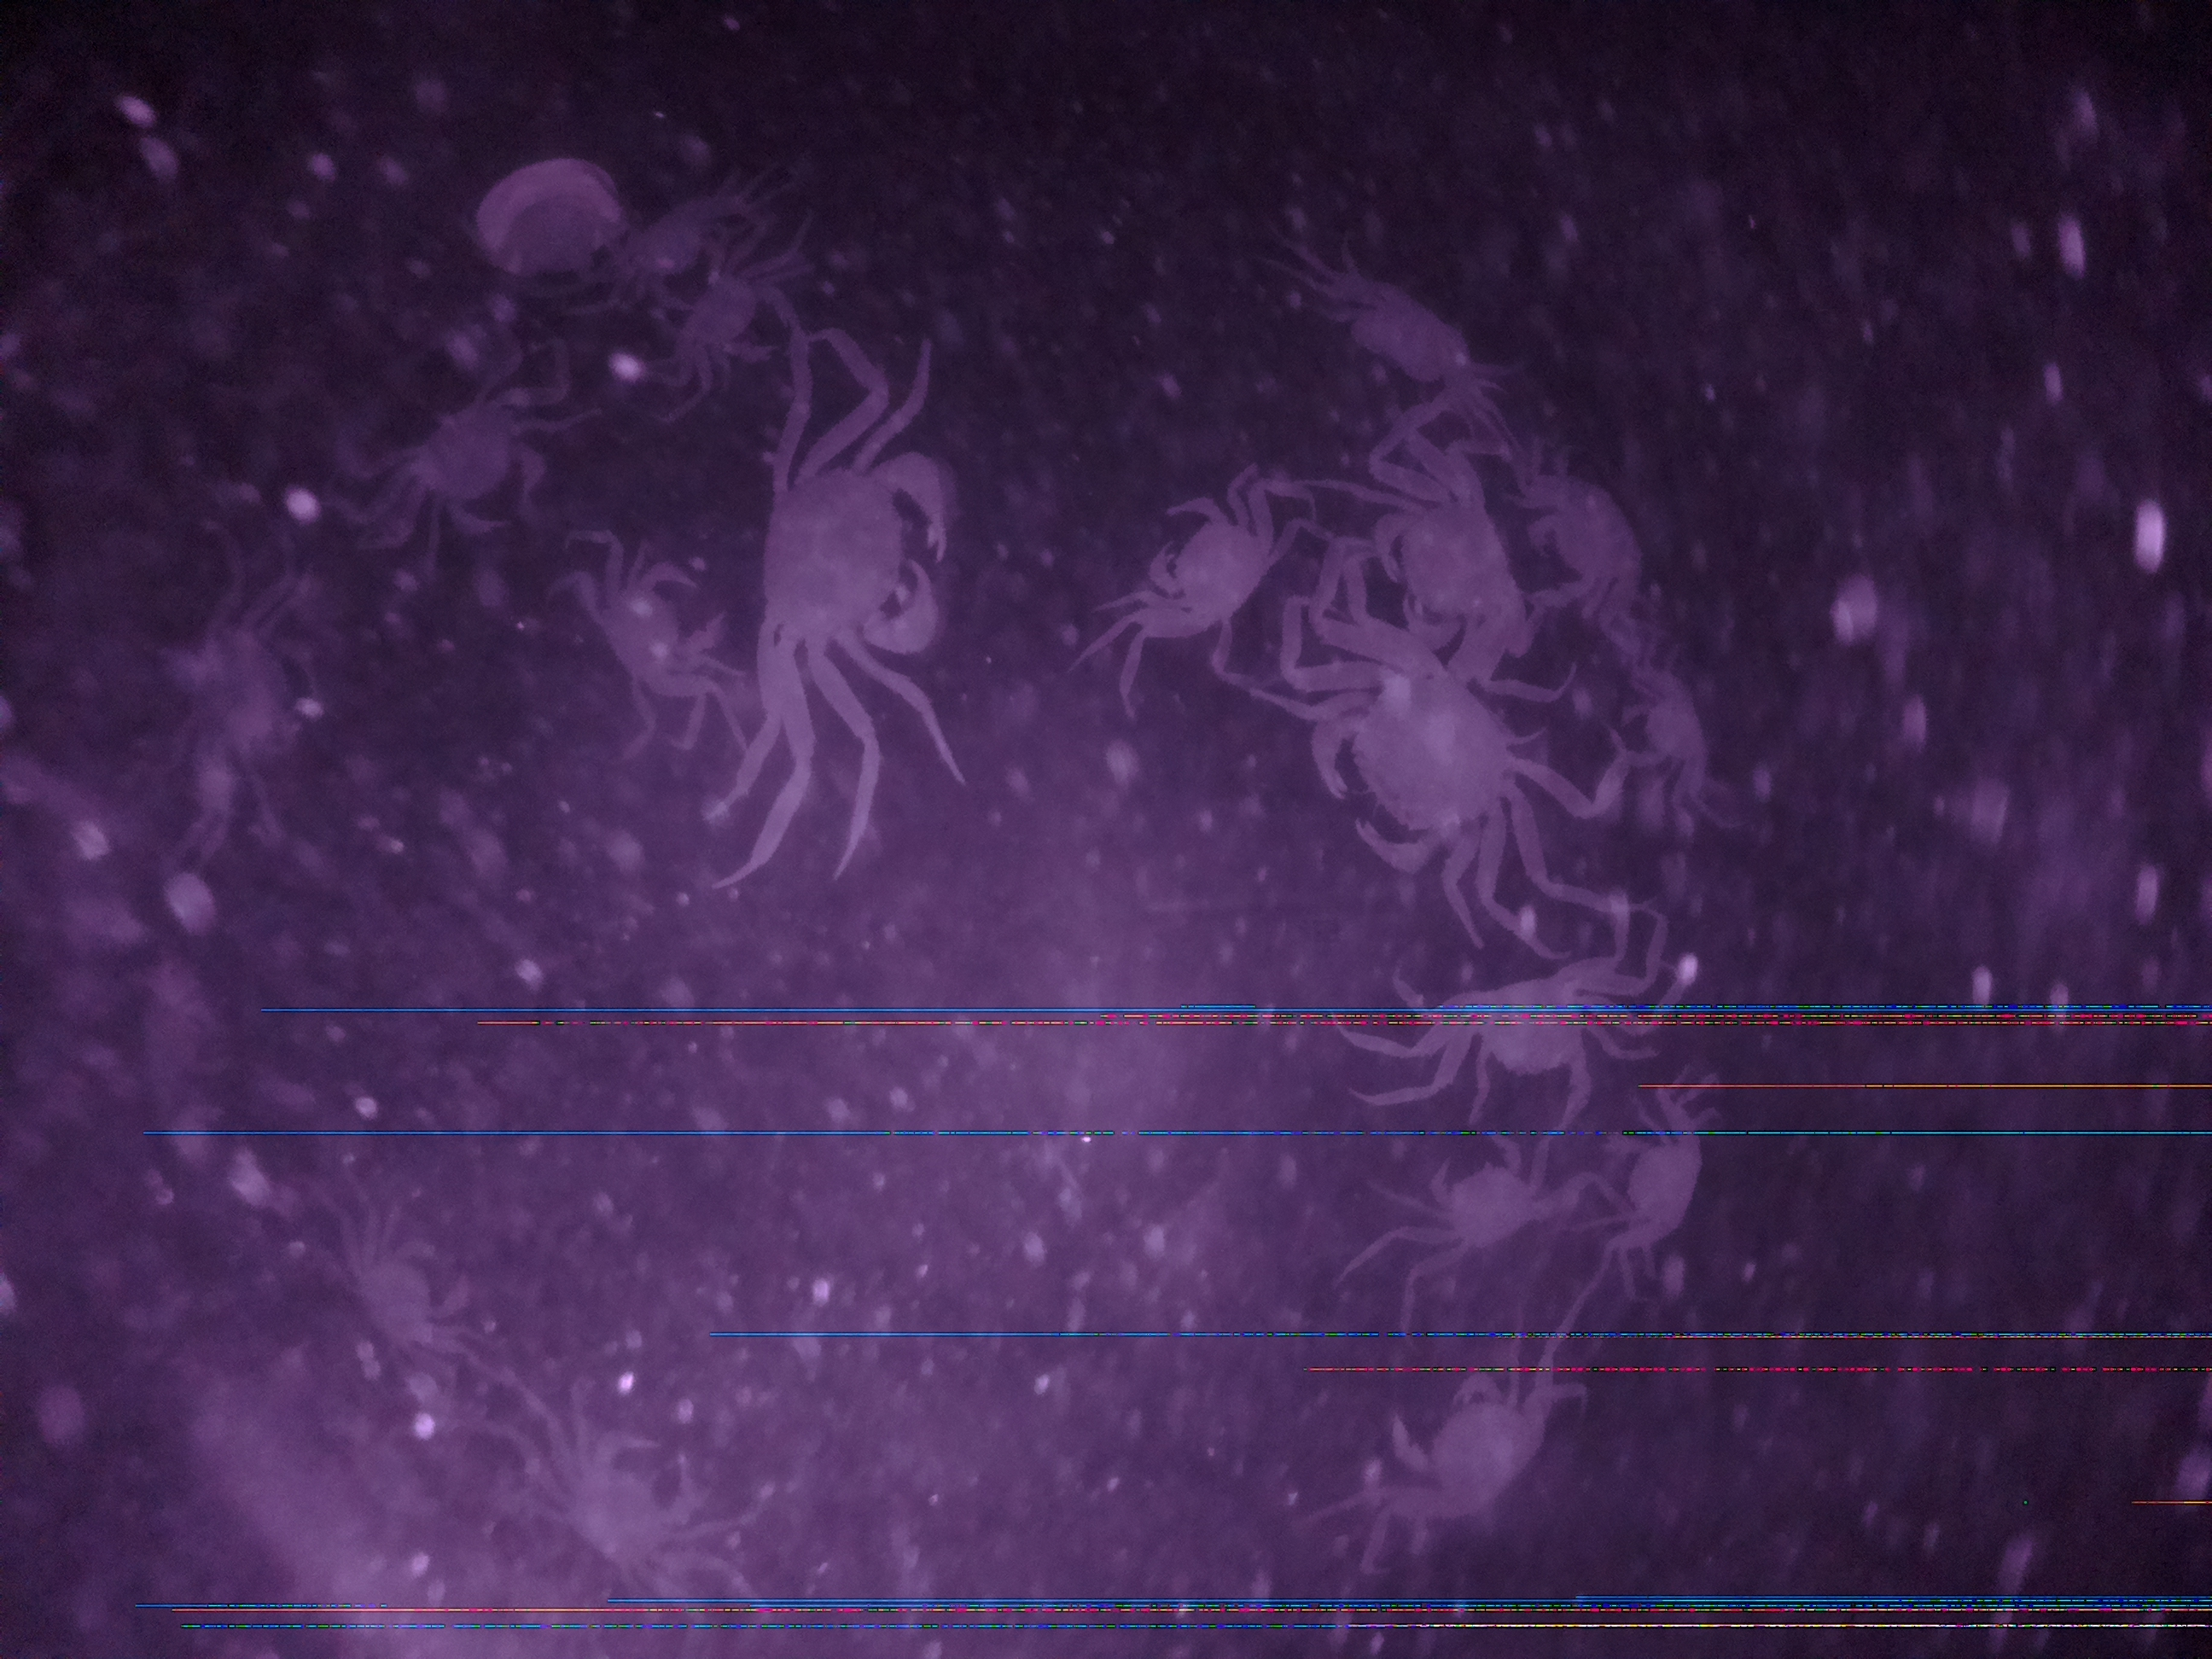Crab: (1301, 636, 1533, 899), (740, 401, 968, 655), (1359, 472, 1540, 662), (1120, 476, 1282, 659), (592, 533, 738, 718), (662, 237, 791, 394), (1406, 1140, 1552, 1277)
